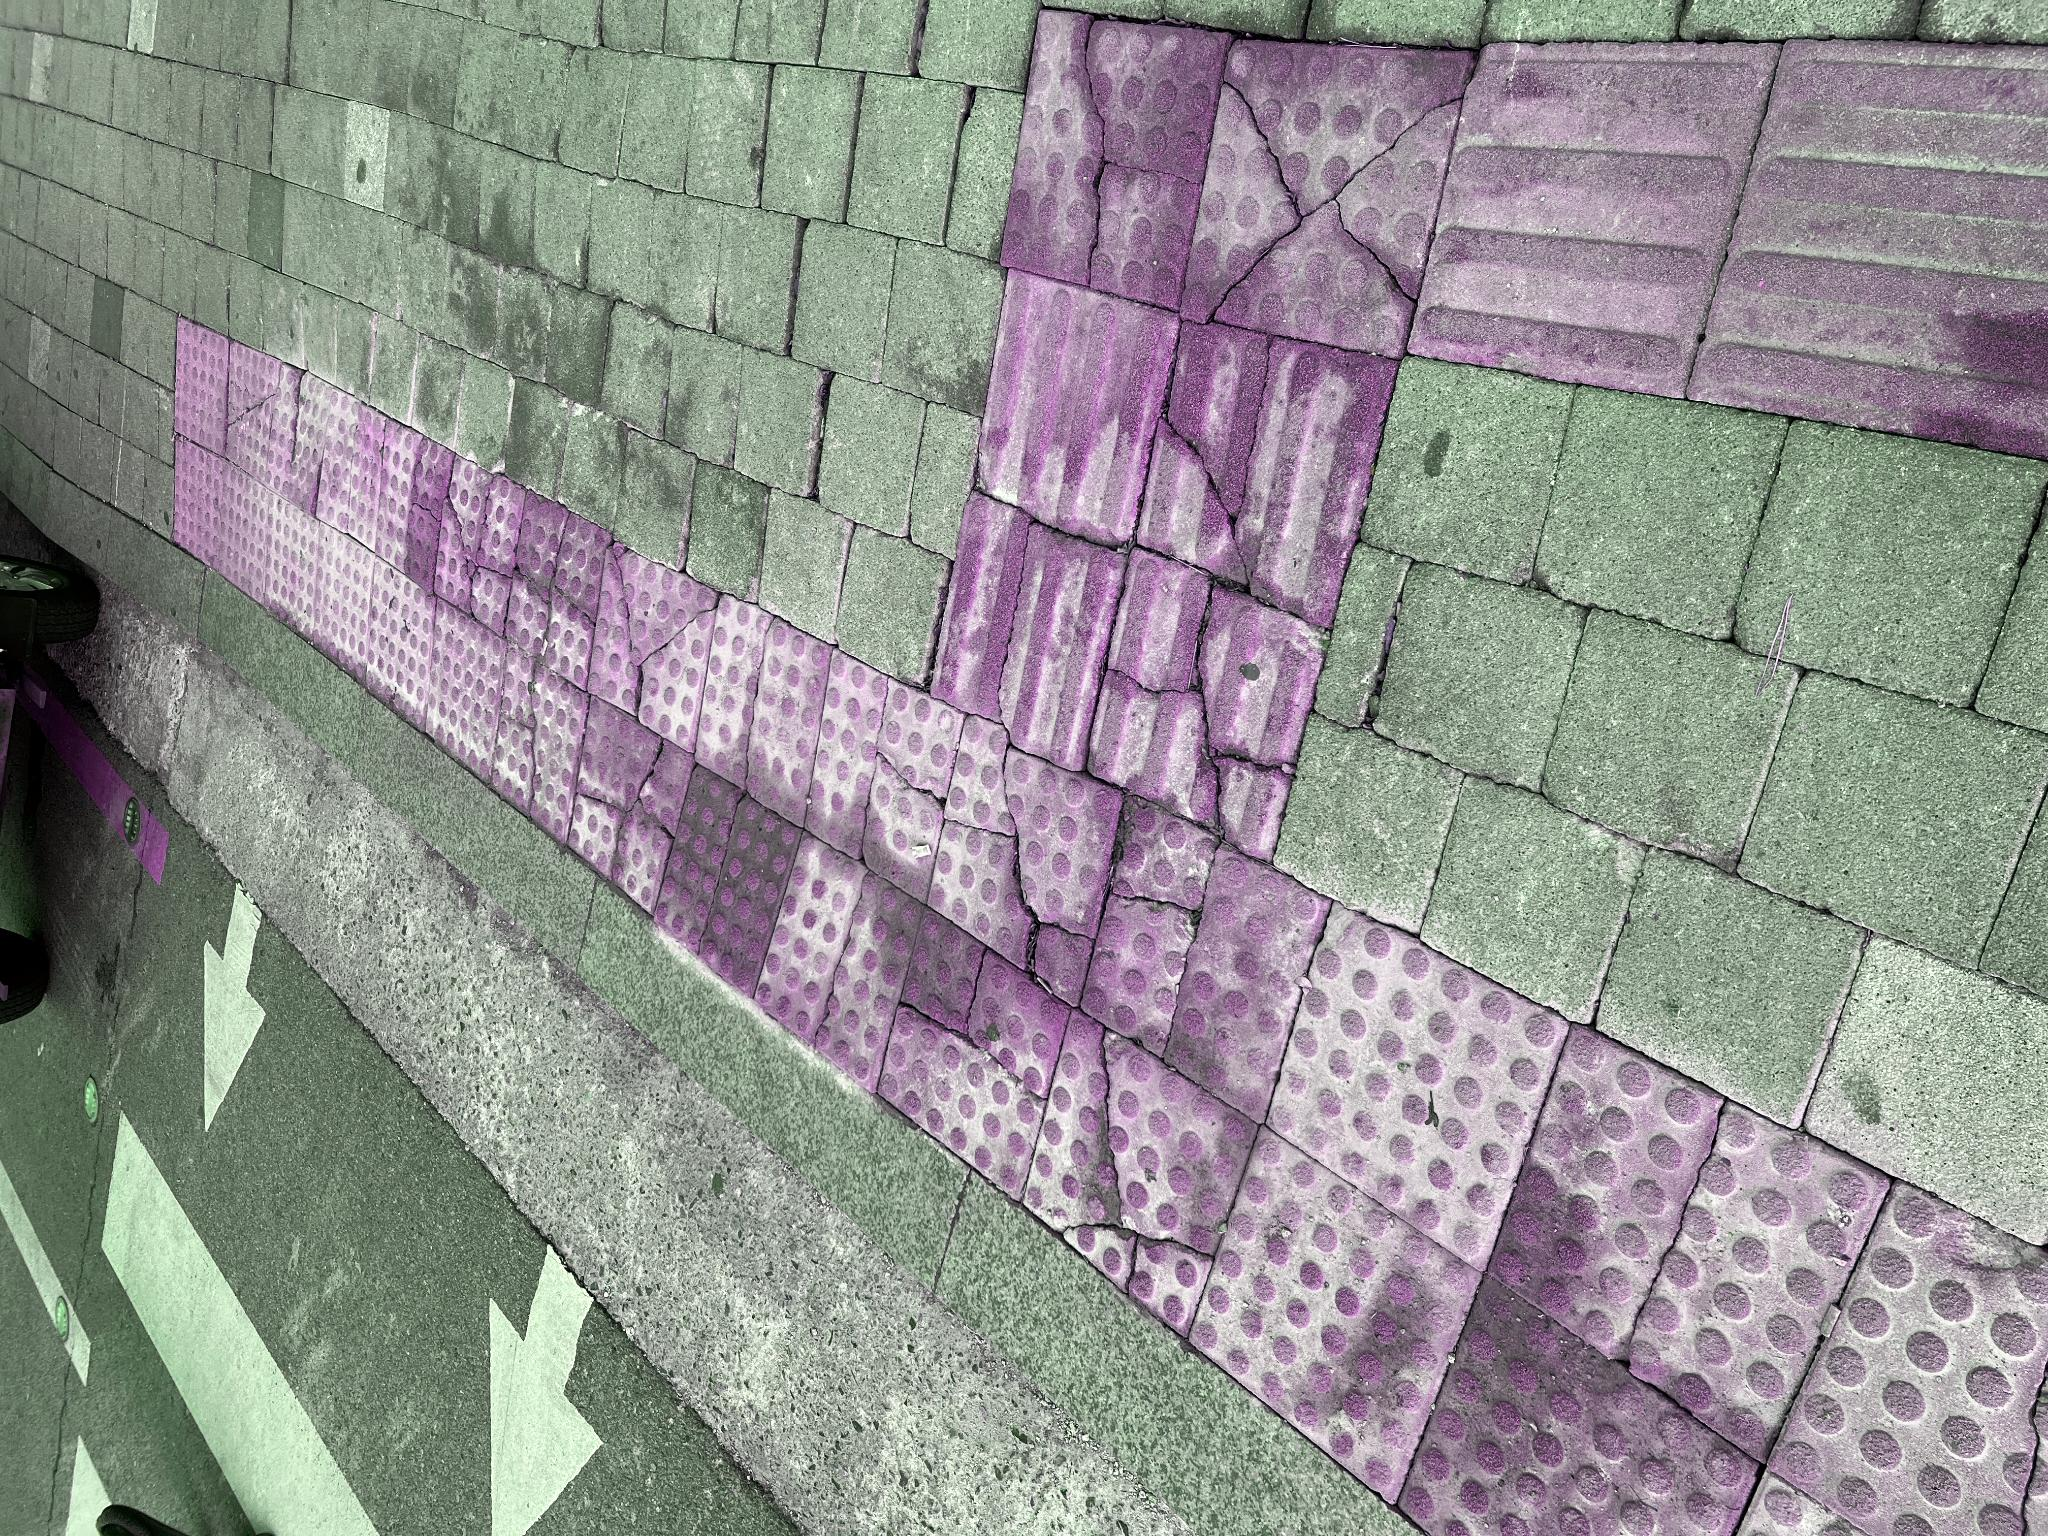Stop block broken: (1182, 1184, 1496, 1468), (414, 1081, 735, 1326), (205, 1021, 524, 1254), (1227, 1002, 1524, 1226), (531, 926, 821, 1120), (337, 878, 622, 1066), (448, 755, 698, 918), (637, 805, 884, 962), (542, 655, 768, 800), (714, 695, 940, 829), (785, 591, 993, 716), (626, 570, 839, 689), (847, 507, 1043, 608), (697, 492, 892, 587), (901, 436, 1079, 523), (943, 378, 1116, 452)
Stop block normal: (37, 1192, 403, 1473), (269, 1267, 631, 1536), (756, 428, 935, 502), (811, 365, 977, 434)
Straight block broken: (911, 1139, 1213, 1396), (679, 1089, 989, 1323), (768, 933, 1040, 1120)
Straight block normal: (992, 978, 1266, 1175), (1164, 1412, 1490, 1536)
